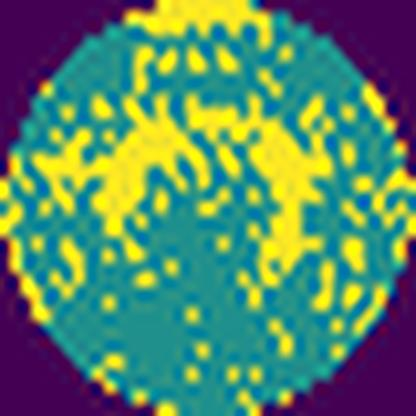Donut: (79, 83, 346, 320)
